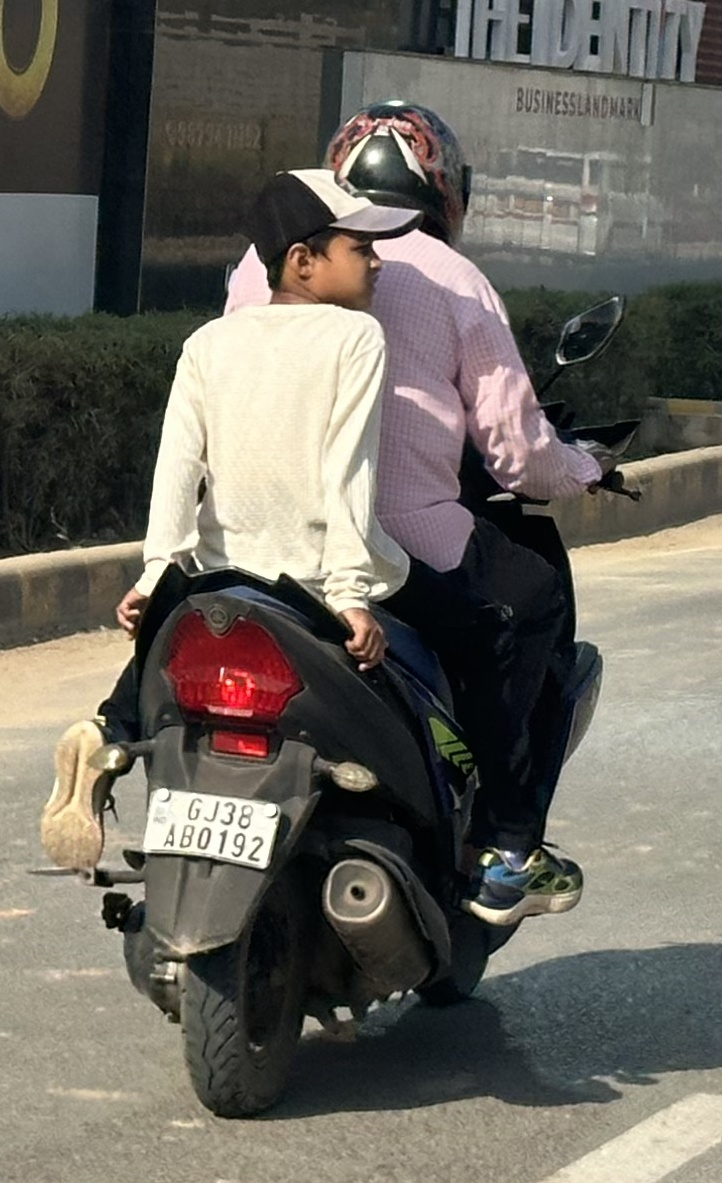BikeWithRider: (16, 87, 660, 1128)
Helmet: (312, 90, 487, 256)
NoHelmet: (219, 159, 403, 321)
